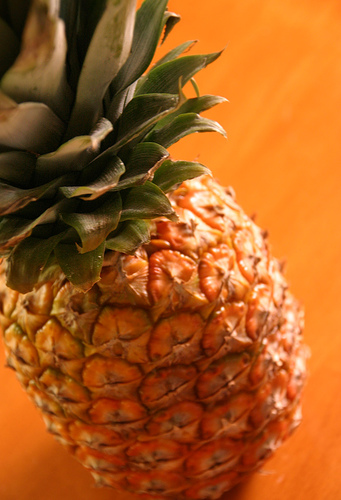pineapple: (0, 0, 314, 498)
